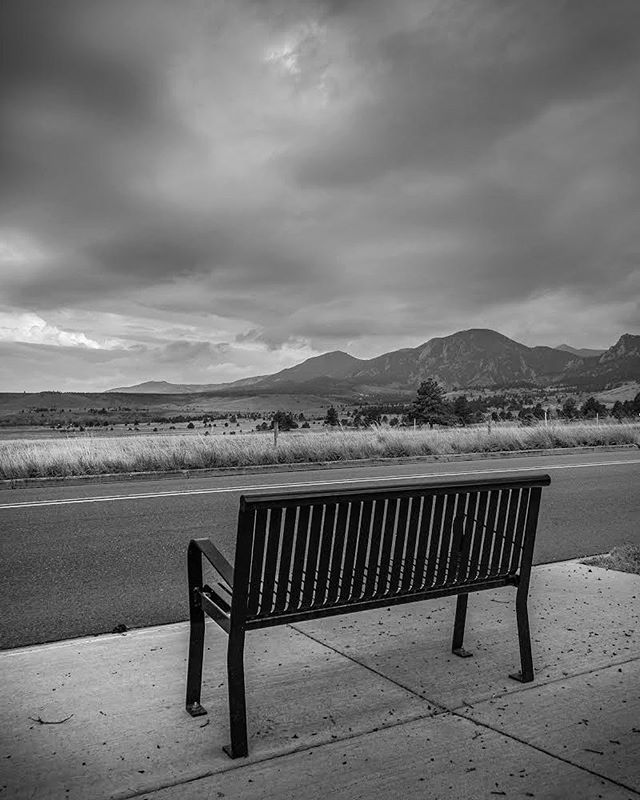bench: (175, 449, 561, 750)
mountain: (303, 321, 565, 377)
sky: (1, 1, 620, 318)
street: (9, 444, 640, 639)
